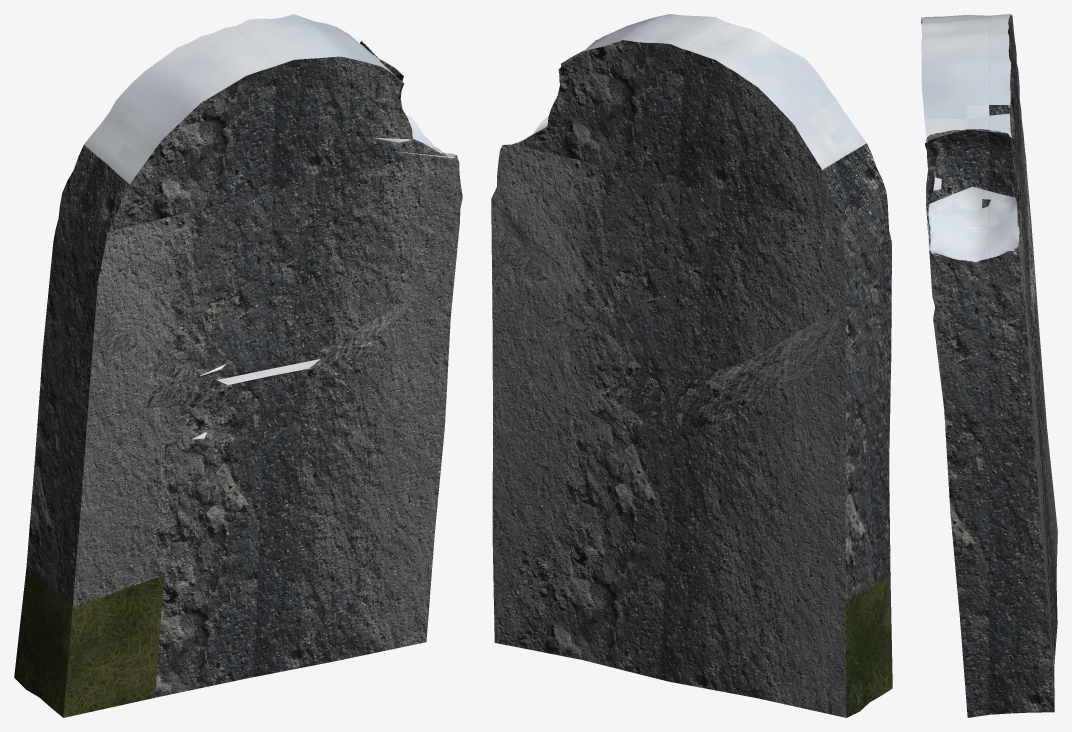
Rendered from snowy-grave-marker-v02.glb.
3 views of the same model, side by side, from view 1: azimuth 30°, elevation 25°; view 2: azimuth 150°, elevation 25°; view 3: azimuth 270°, elevation 25° (orthographic). The views are drawn at different scales.
Visible parts, largest first — view 1: grave-marker; view 2: grave-marker; view 3: grave-marker.
Boxes of the visible parts, left/top/right/bottom form: grave-marker: left=14, top=14, right=462, bottom=717; grave-marker: left=491, top=14, right=892, bottom=717; grave-marker: left=921, top=14, right=1057, bottom=717.
Bounding box in the file's own units: 0.9574 × 1.53 × 0.31.
Materials: 3 (3 with a texture image).
